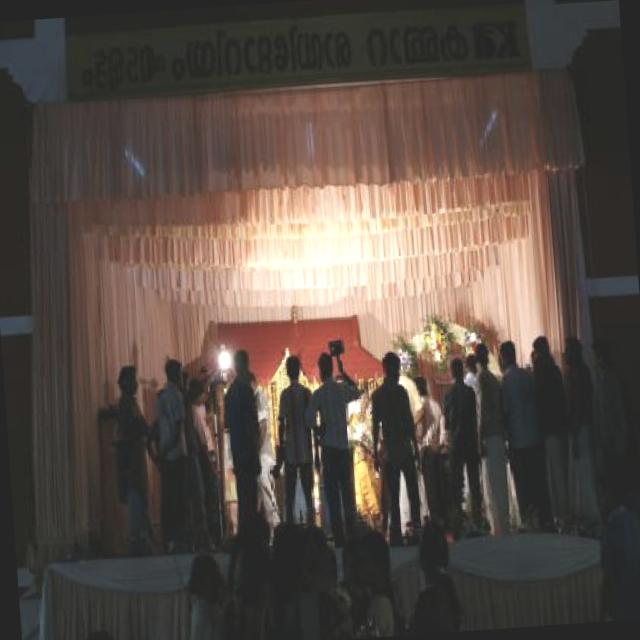Person: (308, 323, 369, 570), (372, 344, 432, 553), (219, 331, 275, 544), (274, 356, 335, 536), (500, 334, 548, 522), (155, 350, 205, 512), (560, 337, 596, 526), (108, 369, 142, 547), (441, 353, 478, 514)
